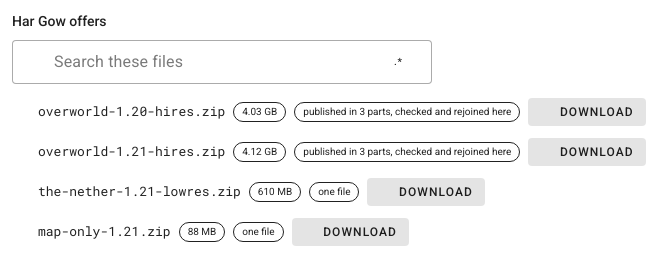
the search bar this list carries › filters the list down and says honestly how much it is hiding
Type "nether" into the search field labelled "Search these files" at (190, 60), box [48,40,332,80]
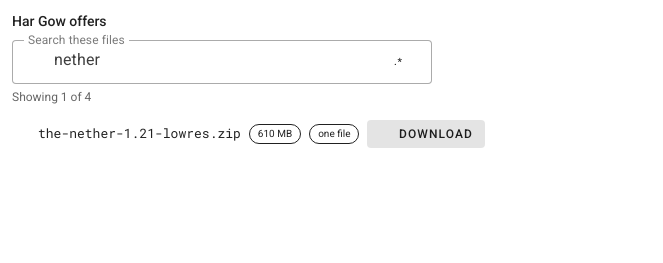
Now the text "Showing 1 of 4" is shown, box [12,90,91,104]
